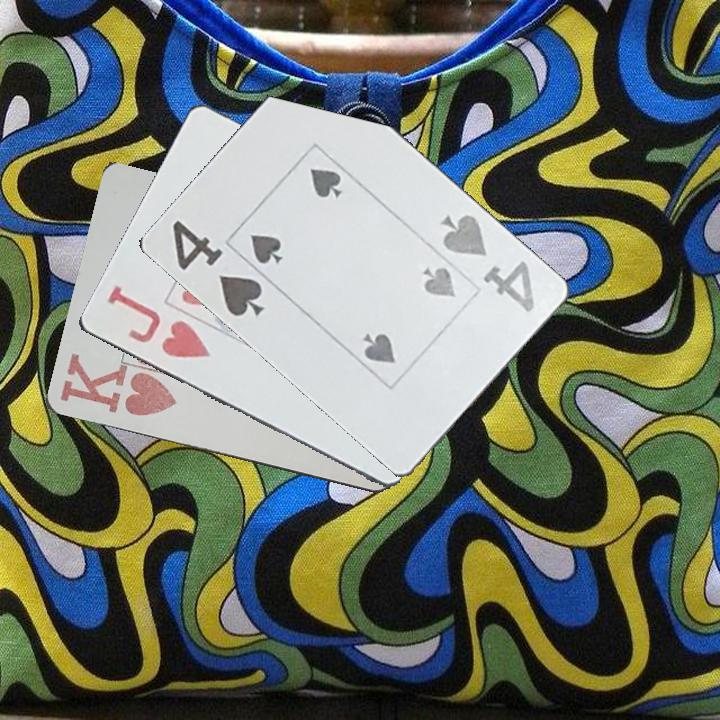4s: (436, 210, 539, 316), (168, 216, 266, 324)
Jh: (102, 282, 213, 362)
Kh: (56, 353, 179, 420)
